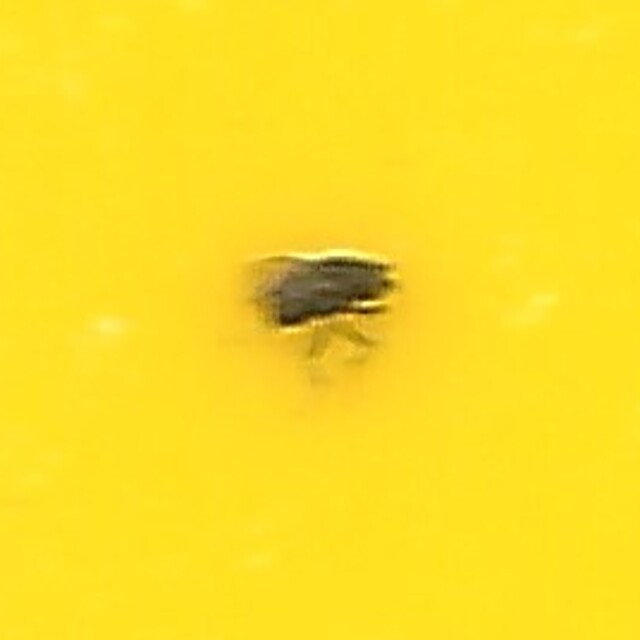Brachycera: (239, 249, 401, 391)
